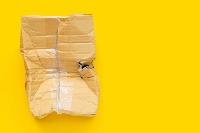damaged package: (70, 55, 92, 77)
undamaged: (19, 11, 100, 119)
